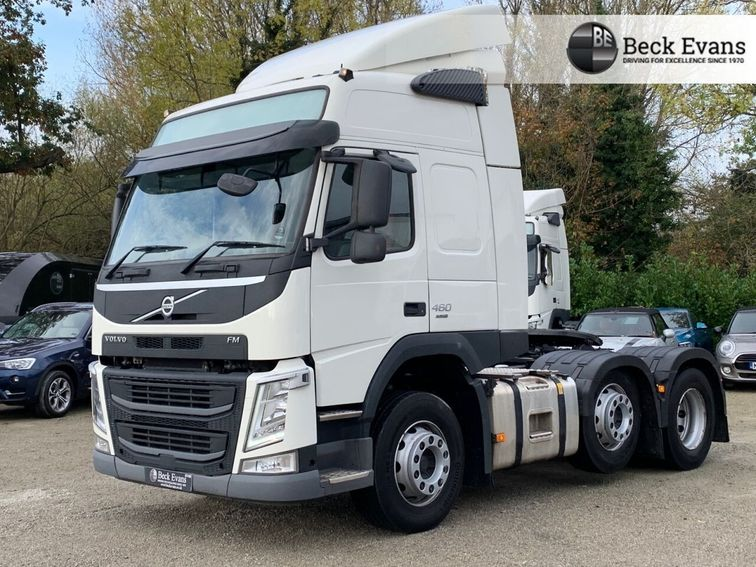Car: (0, 296, 90, 416)
Semi: (89, 5, 729, 534)
